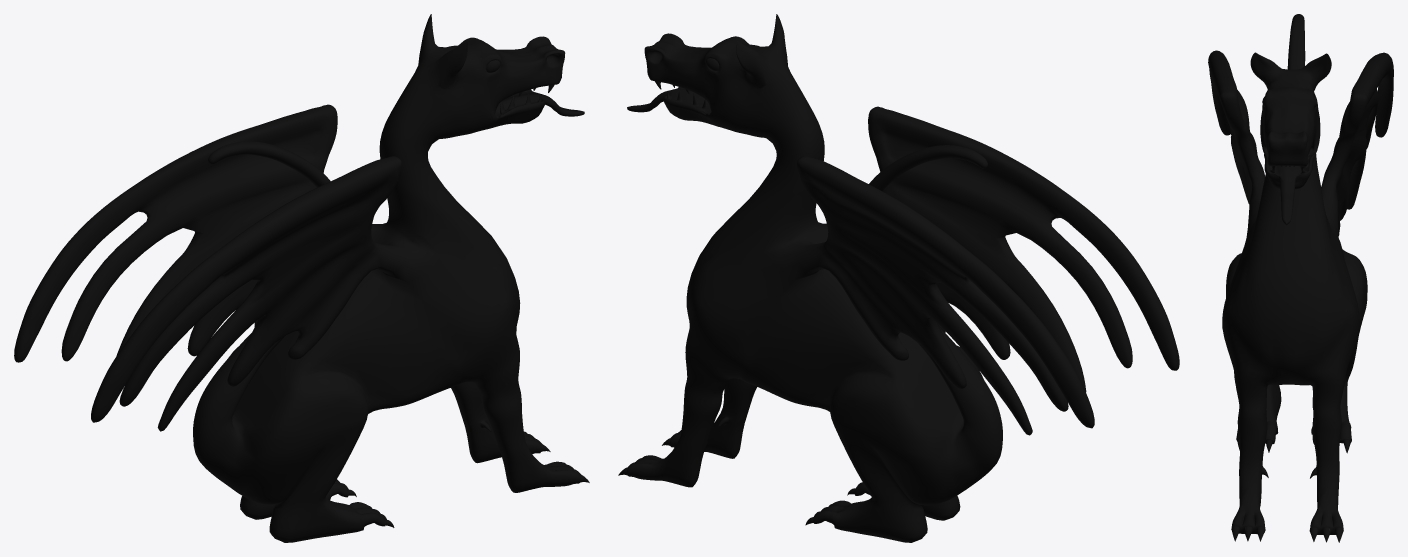
Rendered from DragonFireExperiment.fbx.
3 renders of one model, left to right at view 1: azimuth 30°, elevation 25°; view 2: azimuth 150°, elevation 25°; view 3: azimuth 270°, elevation 25°, orthographic. The views are drawn at different scales.
Parts seen in each view (by area): view 1: Dragon; view 2: Dragon; view 3: Dragon.
Part boxes in pixels (x1,y1,x2,y2): Dragon: (14, 14, 589, 542); Dragon: (618, 14, 1179, 542); Dragon: (1208, 14, 1393, 542).
Bounding box in the file's own units: 246 × 207 × 79.48.
